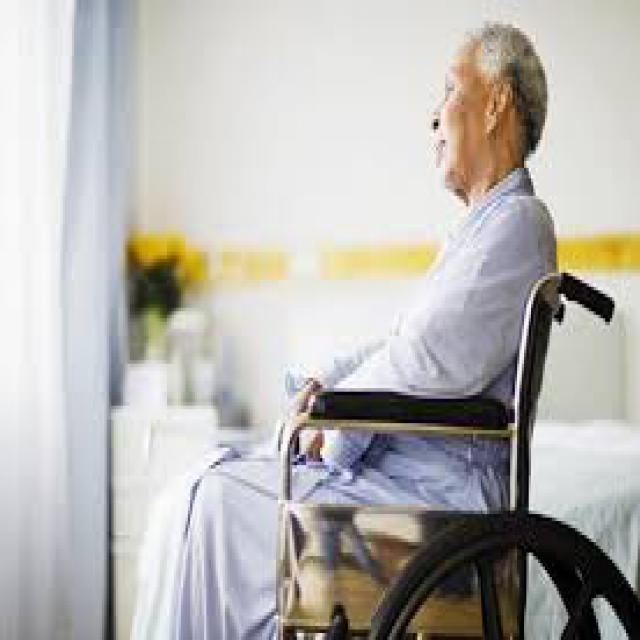wheelchairs: (245, 256, 638, 636)
